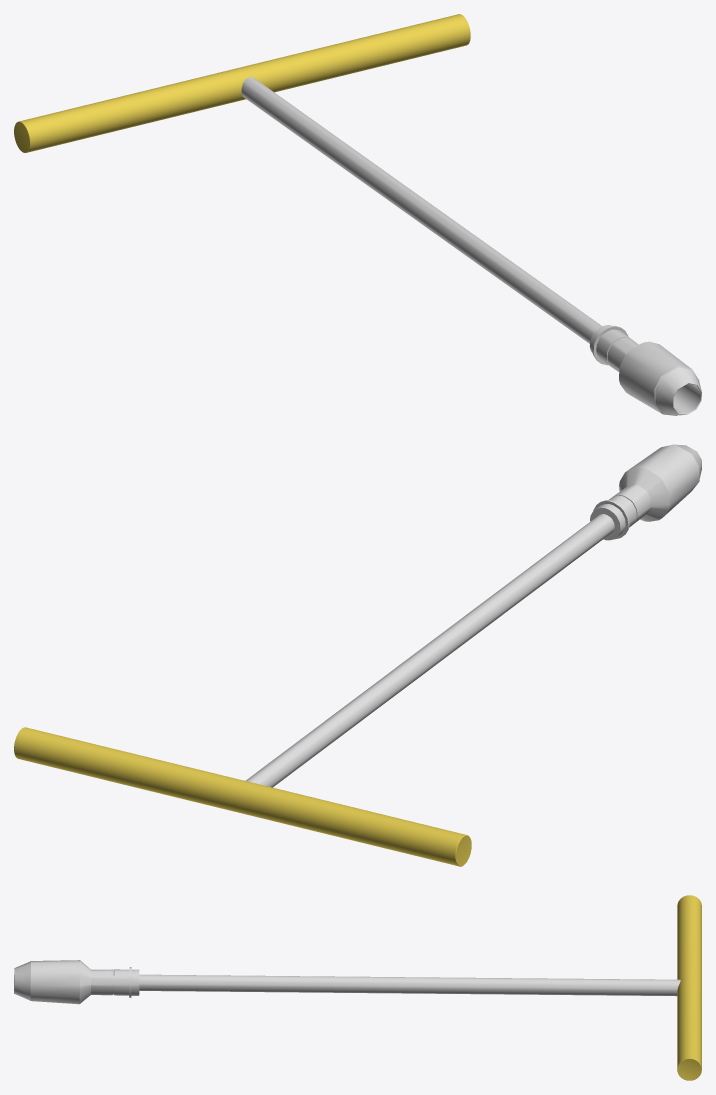
Rendered from T spanner.fbx.
3 views of the same model, one above another, from view 1: azimuth 30°, elevation 25°; view 2: azimuth 150°, elevation 25°; view 3: azimuth 270°, elevation 25° (orthographic). The views are drawn at different scales.
Visible parts, largest first — view 1: T spanner; view 2: T spanner; view 3: T spanner.
Part boxes in pixels (x1,y1,x2,y2): T spanner: (14, 14, 701, 415); T spanner: (14, 444, 701, 866); T spanner: (14, 895, 701, 1080).
Size of the model in its own units: 20.85 by 2.42 by 37.07.
